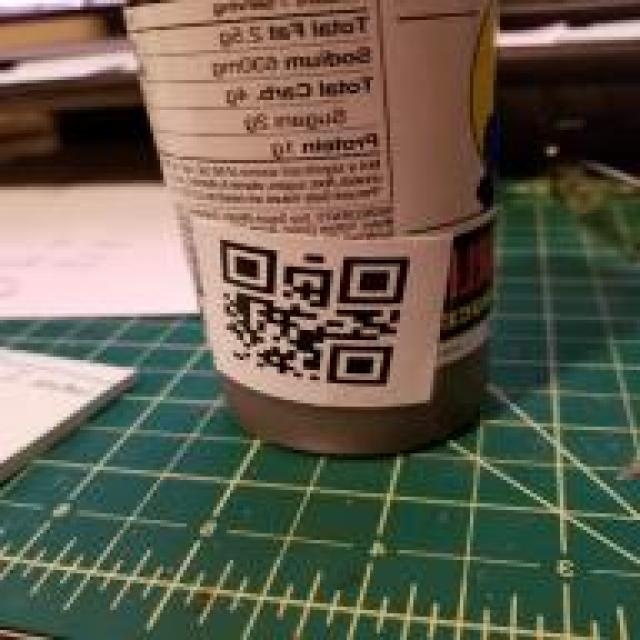qr_code: (220, 240, 409, 388)
